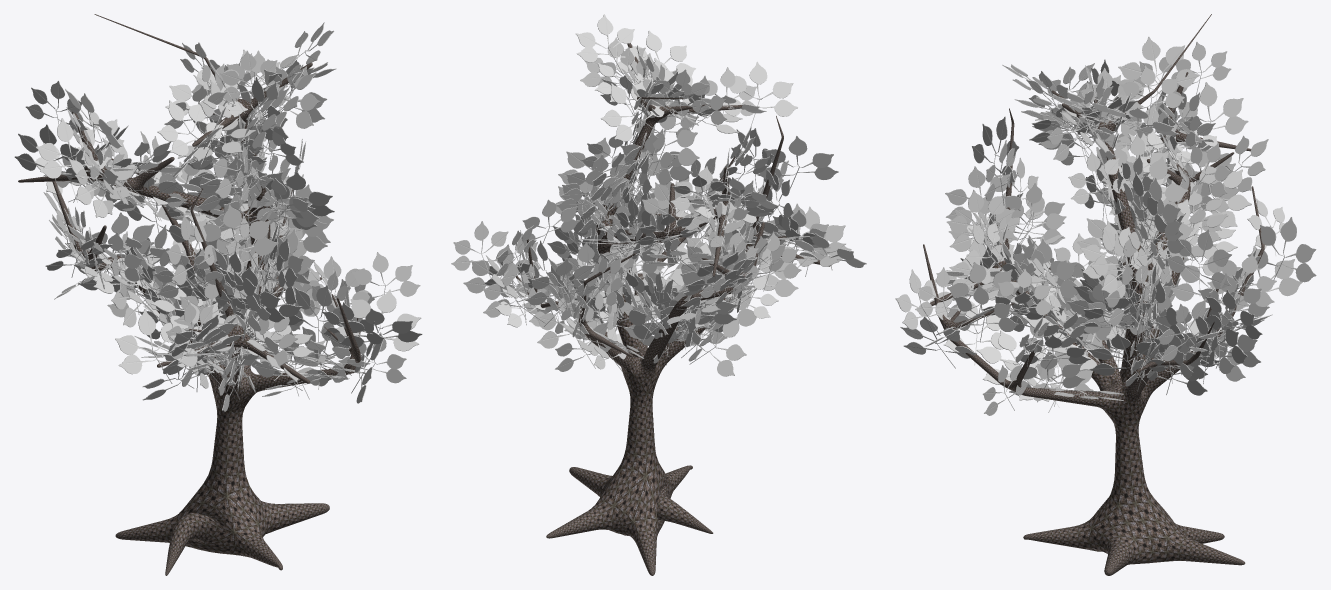
Rendered from baum1.fbx.
The picture shows the model from 3 angles, left to right: view 1: azimuth 30°, elevation 25°; view 2: azimuth 150°, elevation 25°; view 3: azimuth 270°, elevation 25°; orthographic projection. The views are drawn at different scales.
Parts seen in each view (by area): view 1: tree, tree|leaf.001|Dupli|43.0.0.0.0.0.0.0.0.0, tree|leaf.001|Dupli|74.0.0.0.0.0.0.0.0.0, tree|leaf.001|Dupli|46.0.0.0.0.0.0.0.0.0, tree|leaf.001|Dupli|186.0.0.0.0.0.0.0.0.0, tree|leaf.001|Dupli|44.0.0.0.0.0.0.0.0.0, tree|leaf.001|Dupli|21.0.0.0.0.0.0.0.0.0, tree|leaf.001|Dupli|160.0.0.0.0.0.0.0.0.0, tree|leaf.001|Dupli|51.0.0.0.0.0.0.0.0.0, tree|leaf.001|Dupli|54.0.0.0.0.0.0.0.0.0, tree|leaf.001|Dupli|217.0.0.0.0.0.0.0.0.0, tree|leaf.001|Dupli|52.0.0.0.0.0.0.0.0.0 (+50 smaller); view 2: tree, tree|leaf.001|Dupli|188.0.0.0.0.0.0.0.0.0, tree|leaf.001|Dupli|44.0.0.0.0.0.0.0.0.0, tree|leaf.001|Dupli|196.0.0.0.0.0.0.0.0.0, tree|leaf.001|Dupli|67.0.0.0.0.0.0.0.0.0, tree|leaf.001|Dupli|31.0.0.0.0.0.0.0.0.0, tree|leaf.001|Dupli|155.0.0.0.0.0.0.0.0.0, tree|leaf.001|Dupli|227.0.0.0.0.0.0.0.0.0, tree|leaf.001|Dupli|109.0.0.0.0.0.0.0.0.0, tree|leaf.001|Dupli|203.0.0.0.0.0.0.0.0.0, tree|leaf.001|Dupli|215.0.0.0.0.0.0.0.0.0, tree|leaf.001|Dupli|152.0.0.0.0.0.0.0.0.0 (+41 smaller); view 3: tree, tree|leaf.001|Dupli|40.0.0.0.0.0.0.0.0.0, tree|leaf.001|Dupli|67.0.0.0.0.0.0.0.0.0, tree|leaf.001|Dupli|207.0.0.0.0.0.0.0.0.0, tree|leaf.001|Dupli|152.0.0.0.0.0.0.0.0.0, tree|leaf.001|Dupli|160.0.0.0.0.0.0.0.0.0, tree|leaf.001|Dupli|23.0.0.0.0.0.0.0.0.0, tree|leaf.001|Dupli|144.0.0.0.0.0.0.0.0.0, tree|leaf.001|Dupli|45.0.0.0.0.0.0.0.0.0, tree|leaf.001|Dupli|225.0.0.0.0.0.0.0.0.0, tree|leaf.001|Dupli|211.0.0.0.0.0.0.0.0.0, tree|leaf.001|Dupli|52.0.0.0.0.0.0.0.0.0 (+58 smaller).
Part boxes in pixels (x1,y1,x2,y2): tree: [18, 14, 361, 575]; tree|leaf.001|Dupli|43.0.0.0.0.0.0.0.0.0: [194, 204, 278, 272]; tree|leaf.001|Dupli|74.0.0.0.0.0.0.0.0.0: [115, 309, 185, 383]; tree|leaf.001|Dupli|46.0.0.0.0.0.0.0.0.0: [336, 289, 421, 357]; tree|leaf.001|Dupli|186.0.0.0.0.0.0.0.0.0: [157, 100, 223, 155]; tree|leaf.001|Dupli|44.0.0.0.0.0.0.0.0.0: [166, 214, 218, 285]; tree|leaf.001|Dupli|21.0.0.0.0.0.0.0.0.0: [35, 118, 110, 185]; tree|leaf.001|Dupli|160.0.0.0.0.0.0.0.0.0: [14, 124, 78, 194]; tree|leaf.001|Dupli|51.0.0.0.0.0.0.0.0.0: [351, 252, 420, 312]; tree|leaf.001|Dupli|54.0.0.0.0.0.0.0.0.0: [339, 308, 422, 347]; tree|leaf.001|Dupli|217.0.0.0.0.0.0.0.0.0: [196, 156, 273, 210]; tree|leaf.001|Dupli|52.0.0.0.0.0.0.0.0.0: [294, 285, 350, 354]; tree: [516, 43, 830, 575]; tree|leaf.001|Dupli|188.0.0.0.0.0.0.0.0.0: [723, 61, 797, 126]; tree|leaf.001|Dupli|44.0.0.0.0.0.0.0.0.0: [757, 136, 838, 188]; tree|leaf.001|Dupli|196.0.0.0.0.0.0.0.0.0: [576, 14, 645, 74]; tree|leaf.001|Dupli|67.0.0.0.0.0.0.0.0.0: [525, 258, 597, 310]; tree|leaf.001|Dupli|31.0.0.0.0.0.0.0.0.0: [601, 81, 666, 141]; tree|leaf.001|Dupli|155.0.0.0.0.0.0.0.0.0: [451, 221, 514, 279]; tree|leaf.001|Dupli|227.0.0.0.0.0.0.0.0.0: [637, 114, 699, 175]; tree|leaf.001|Dupli|109.0.0.0.0.0.0.0.0.0: [689, 318, 746, 376]; tree|leaf.001|Dupli|203.0.0.0.0.0.0.0.0.0: [650, 69, 710, 119]; tree|leaf.001|Dupli|215.0.0.0.0.0.0.0.0.0: [560, 154, 633, 203]; tree|leaf.001|Dupli|152.0.0.0.0.0.0.0.0.0: [516, 199, 579, 246]; tree: [923, 14, 1264, 575]; tree|leaf.001|Dupli|40.0.0.0.0.0.0.0.0.0: [946, 189, 1019, 252]; tree|leaf.001|Dupli|67.0.0.0.0.0.0.0.0.0: [1247, 217, 1316, 282]; tree|leaf.001|Dupli|207.0.0.0.0.0.0.0.0.0: [1118, 36, 1199, 99]; tree|leaf.001|Dupli|152.0.0.0.0.0.0.0.0.0: [1165, 229, 1231, 296]; tree|leaf.001|Dupli|160.0.0.0.0.0.0.0.0.0: [1177, 82, 1248, 152]; tree|leaf.001|Dupli|23.0.0.0.0.0.0.0.0.0: [1190, 163, 1251, 227]; tree|leaf.001|Dupli|144.0.0.0.0.0.0.0.0.0: [1087, 333, 1171, 384]; tree|leaf.001|Dupli|45.0.0.0.0.0.0.0.0.0: [953, 284, 1018, 341]; tree|leaf.001|Dupli|225.0.0.0.0.0.0.0.0.0: [1068, 151, 1130, 208]; tree|leaf.001|Dupli|211.0.0.0.0.0.0.0.0.0: [1090, 226, 1141, 293]; tree|leaf.001|Dupli|52.0.0.0.0.0.0.0.0.0: [947, 262, 1019, 323].
Bounding box in the file's own units: 433 × 368 × 581.
Materials: 6 (1 with a texture image).
